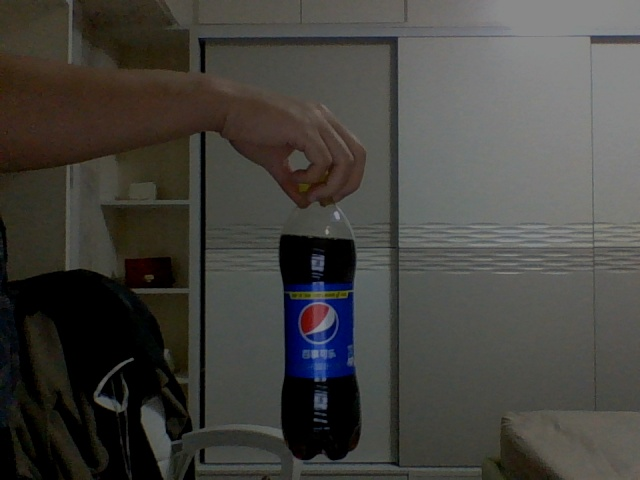Cola: (279, 177, 360, 461)
